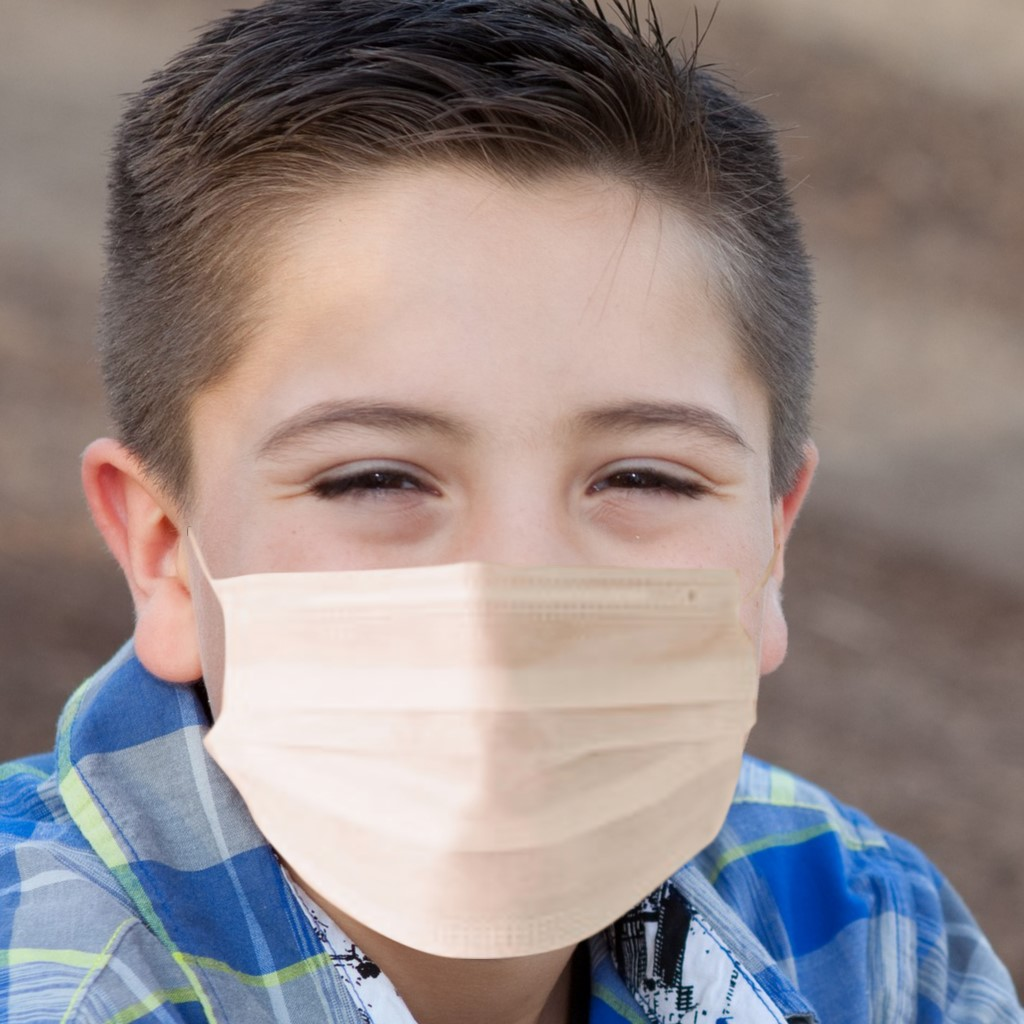con_mascara: (144, 120, 783, 982)
